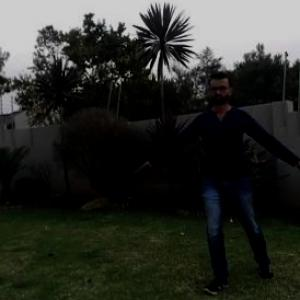land: (150, 80, 286, 246)
